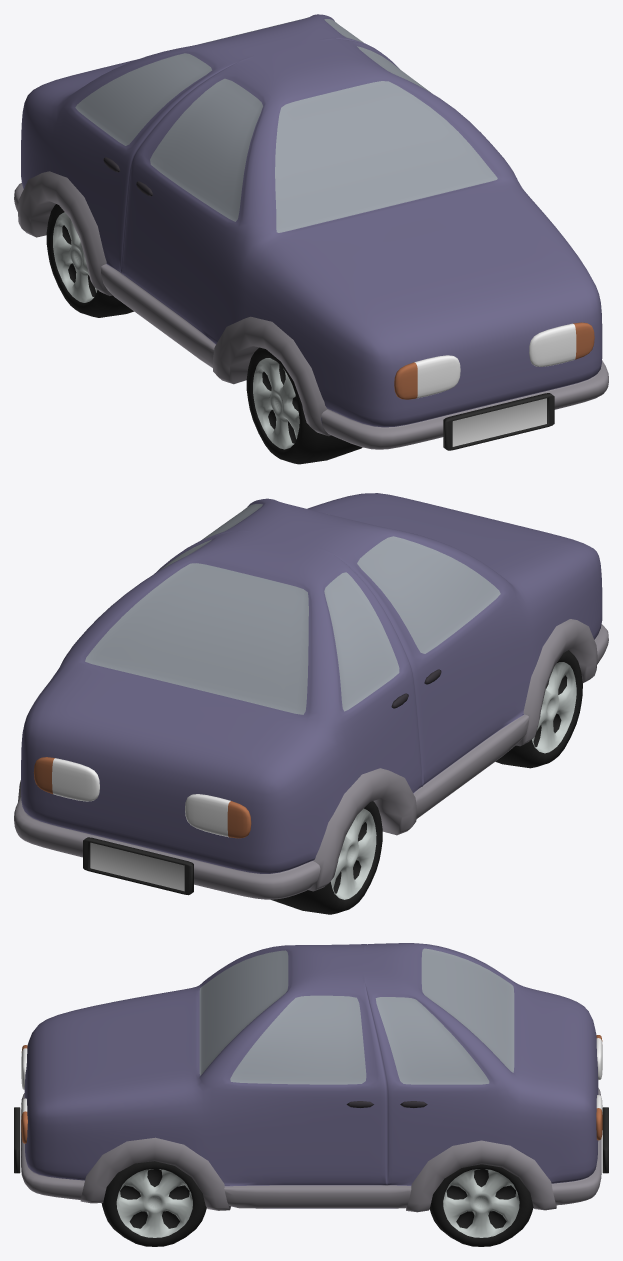
The model's file is carpurplefixed.fbx.
3 views of the same model, one above another, from view 1: azimuth 30°, elevation 25°; view 2: azimuth 150°, elevation 25°; view 3: azimuth 270°, elevation 25° (orthographic). The views are drawn at different scales.
Visible parts, largest first — view 1: Cube, Cylinder.008, Cylinder.007, Cube.005, Cube.001; view 2: Cube, Cylinder.008, Cylinder.007, Cube.005, Cube.001; view 3: Cube, Cylinder.008, Cylinder.007, Cube.005, Cube.001.
Boxes of the visible parts, x1,y1,x2,y2 form: Cube: (14, 14, 608, 449); Cylinder.008: (46, 204, 362, 464); Cylinder.007: (17, 171, 330, 436); Cube.005: (394, 322, 594, 399); Cube.001: (443, 393, 554, 450); Cube: (14, 493, 608, 899); Cylinder.008: (271, 650, 582, 914); Cylinder.007: (18, 619, 597, 891); Cube.005: (33, 757, 251, 838); Cube.001: (83, 837, 193, 895); Cube: (21, 943, 601, 1208); Cylinder.008: (101, 1161, 533, 1246); Cylinder.007: (80, 1137, 556, 1212); Cube.005: (21, 1035, 602, 1143); Cube.001: (14, 1107, 608, 1173).
Bounding box in the file's own units: 453 × 389 × 888.
